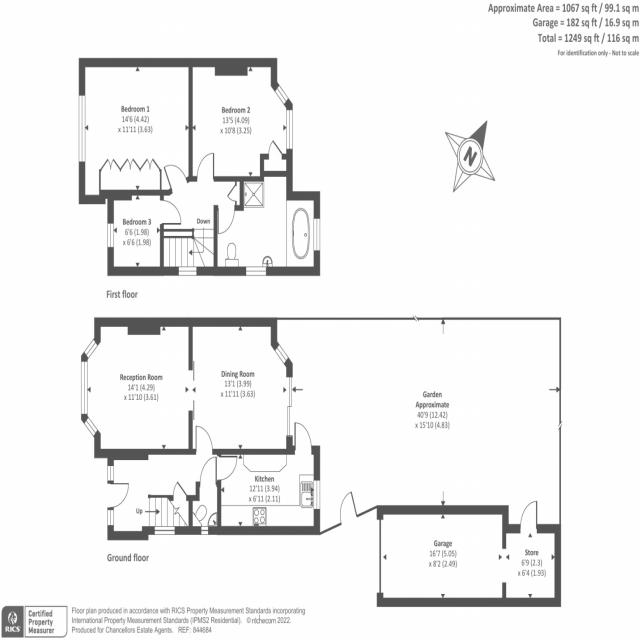DOOR: (163, 164, 188, 194), (294, 421, 312, 455), (160, 199, 182, 225), (107, 482, 129, 508), (217, 205, 235, 235), (195, 425, 213, 455), (200, 456, 217, 487), (217, 456, 238, 481), (196, 153, 214, 182)
ROOM: (81, 317, 295, 461), (79, 58, 193, 204), (188, 57, 293, 182), (217, 421, 320, 535), (107, 190, 182, 276)
SLIDING DOOR: (286, 373, 294, 438)
WINDOW: (79, 95, 85, 163), (81, 360, 88, 415), (83, 338, 99, 359), (274, 343, 289, 365), (83, 416, 98, 438), (274, 84, 289, 105), (286, 109, 293, 150), (313, 218, 320, 251), (313, 479, 320, 510), (246, 266, 267, 276), (178, 266, 197, 276), (154, 526, 175, 535), (107, 223, 114, 248), (107, 465, 114, 482), (107, 509, 114, 526), (201, 526, 208, 535)
